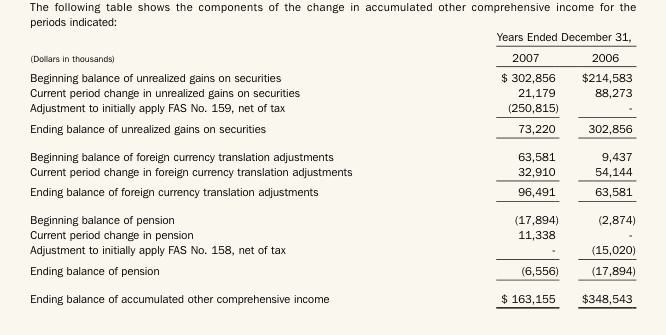table: (29, 29, 635, 304)
table column: (29, 29, 423, 304), (423, 29, 569, 304), (569, 29, 635, 304)
table column header: (29, 29, 635, 66)
table row: (29, 117, 635, 141), (29, 181, 635, 205), (29, 259, 635, 283), (29, 141, 635, 163), (29, 205, 635, 226), (29, 283, 635, 304), (29, 46, 635, 66), (29, 66, 635, 84), (29, 99, 635, 117), (29, 163, 635, 181), (29, 241, 635, 259), (29, 29, 635, 46), (29, 84, 635, 99), (29, 226, 635, 241)
table spanning cell: (29, 29, 423, 66), (423, 29, 635, 46)
